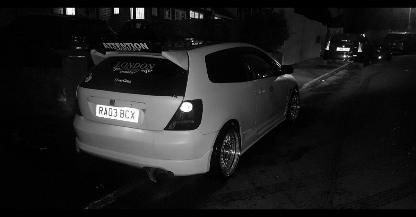license plate: (94, 102, 140, 125)
